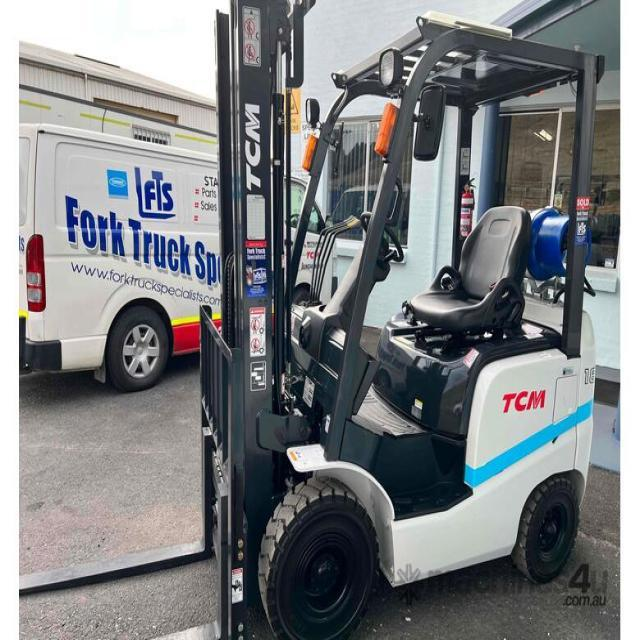forklift: (195, 8, 620, 640)
